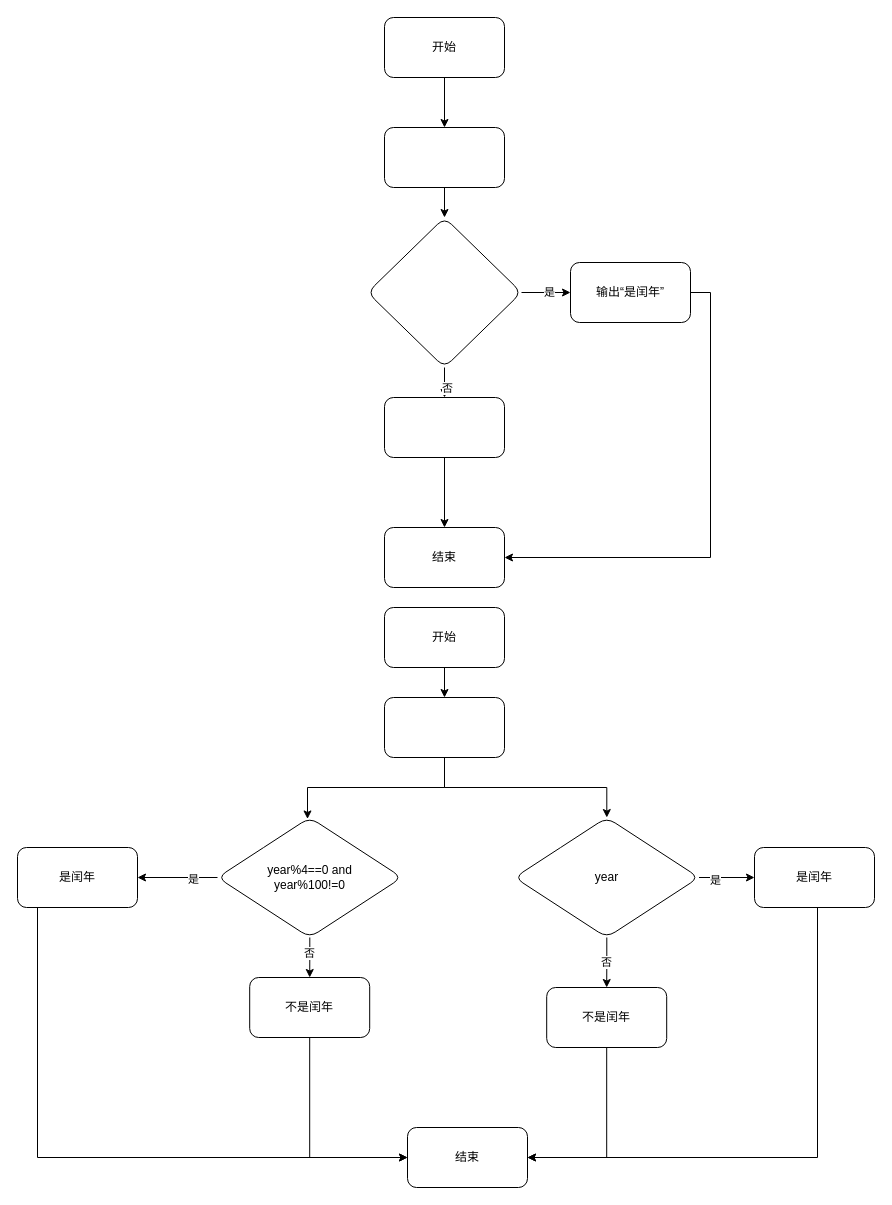
The diagram is 892 pixels wide and 1205 high, and some of its shapes have lost their labels. Here are the shapes that lost their labels. From the top down, the centre of each, then its label:
At (444,157): "键盘输入四位数 （键入） year".
At (444,292): "year是否是闰年 1.year%4==0 and year%100!=0 2.year%400==0".
At (444,427): "输出“不是闰年”".
At (444,727): "输入一个年份year".
